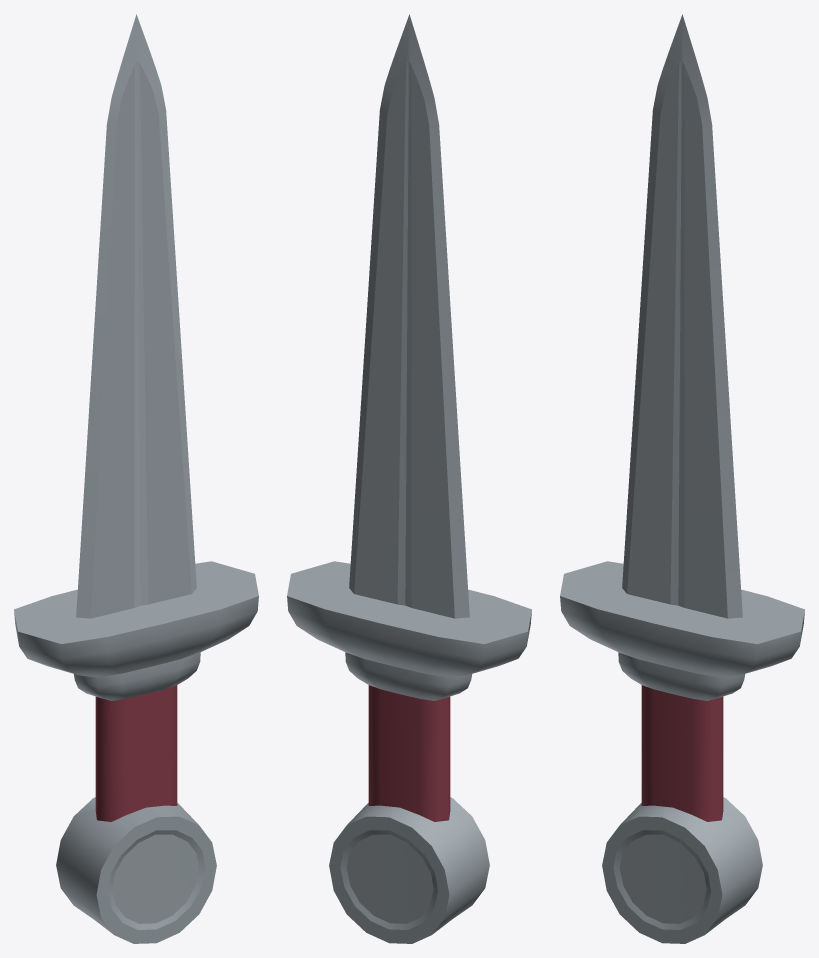
Rendered from Dagger.fbx.
3 views of the same model, side by side, from view 1: azimuth 30°, elevation 25°; view 2: azimuth 150°, elevation 25°; view 3: azimuth 330°, elevation 25° (orthographic).
Visible parts, largest first — view 1: Dagger; view 2: Dagger; view 3: Dagger.
Part boxes in pixels (box(x1,y1,x2,y2)): Dagger: box(14, 14, 258, 943); Dagger: box(287, 14, 531, 943); Dagger: box(560, 14, 804, 943).
Bounding box in the file's own units: 0.1471 × 0.5424 × 0.0613.
